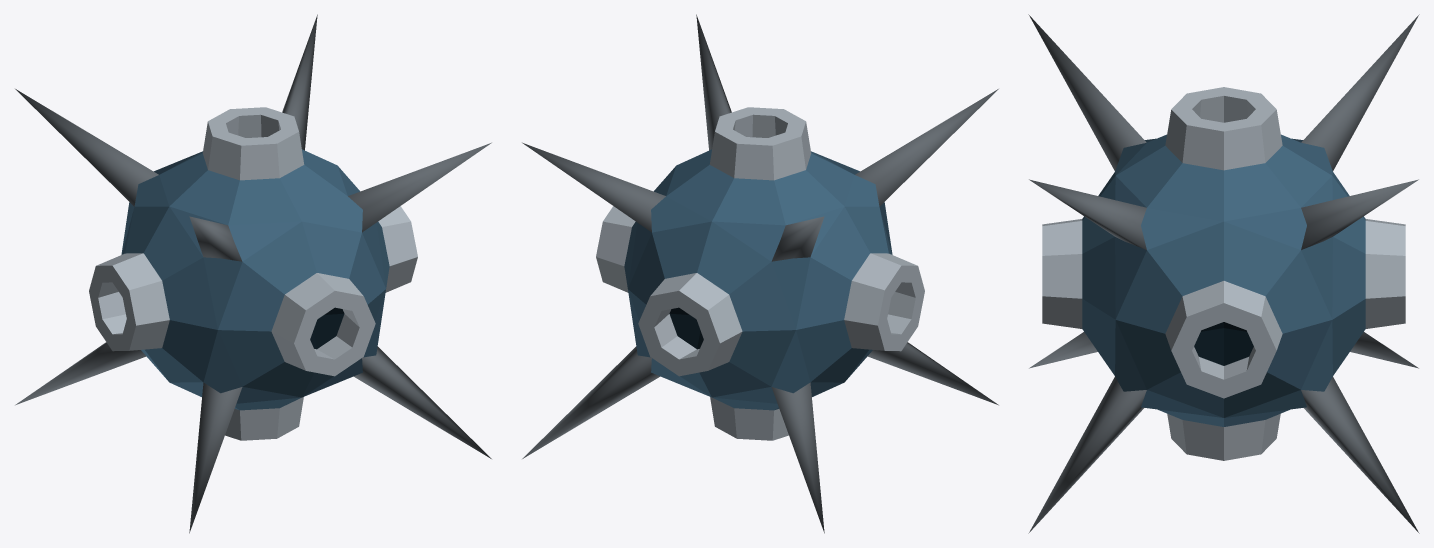
The model's file is Place_Holder_2.fbx.
3 renders of one model, left to right at view 1: azimuth 30°, elevation 25°; view 2: azimuth 150°, elevation 25°; view 3: azimuth 270°, elevation 25°, orthographic. The views are drawn at different scales.
Visible parts, largest first — view 1: Base; view 2: Base; view 3: Base.
Part boxes in pixels (x1=…): Base: x1=15, y1=14, x2=491, y2=533; Base: x1=522, y1=14, x2=998, y2=533; Base: x1=1028, y1=14, x2=1419, y2=533.
Size of the model in its own units: 5.1 by 5.1 by 5.1.
